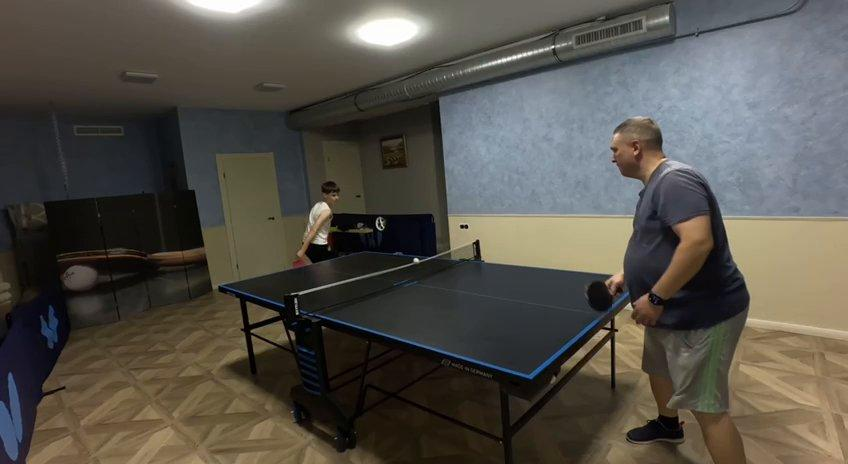Ball: (411, 256, 424, 263)
Net: (283, 241, 482, 318)
Player1: (296, 181, 339, 263)
Player2: (608, 116, 749, 463)
Table: (223, 250, 637, 374)
